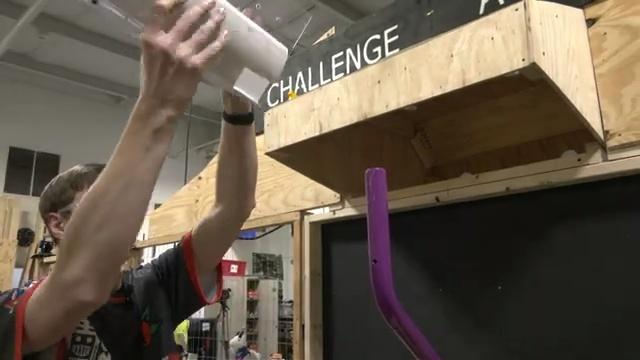CORAL: (160, 0, 289, 105)
